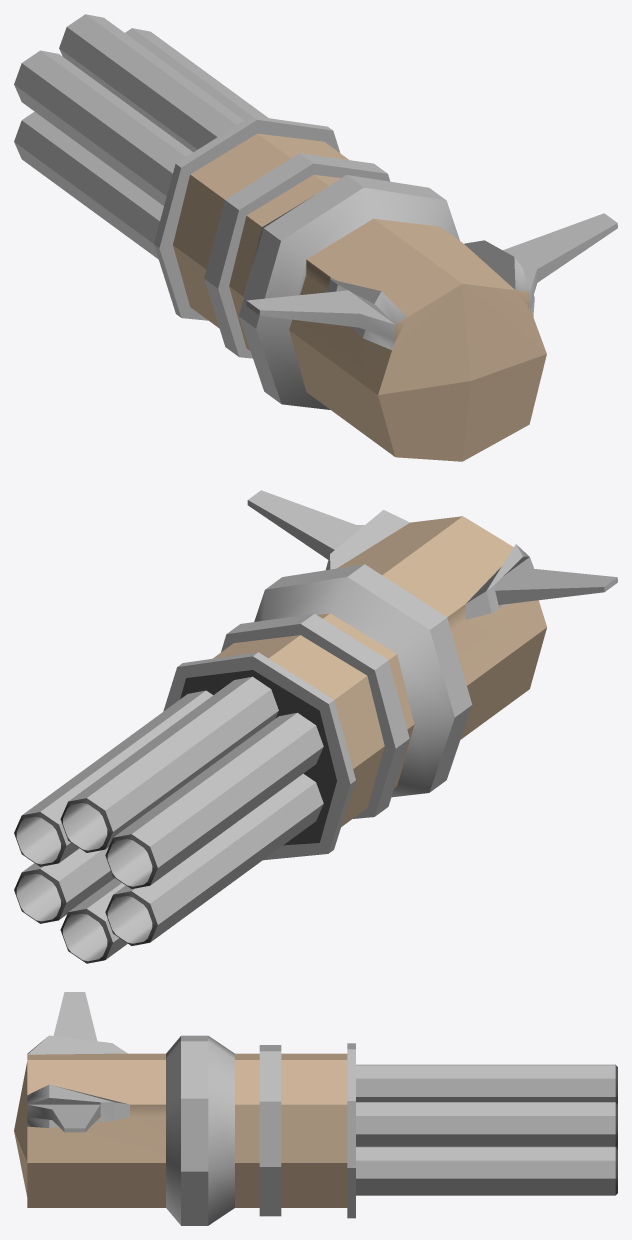
File: Gatling Gun.fbx
The picture shows the model from 3 angles, top to bottom: view 1: azimuth 30°, elevation 25°; view 2: azimuth 150°, elevation 25°; view 3: azimuth 270°, elevation 25°; orthographic projection. The views are drawn at different scales.
Visible parts, largest first — view 1: polySurface8, polySurface11; view 2: polySurface8, polySurface11; view 3: polySurface8, polySurface11.
Part boxes in pixels (bbox=[...]): polySurface8: bbox=[154, 116, 617, 461]; polySurface11: bbox=[14, 14, 267, 259]; polySurface8: bbox=[163, 490, 617, 860]; polySurface11: bbox=[14, 676, 323, 963]; polySurface8: bbox=[14, 992, 355, 1225]; polySurface11: bbox=[356, 1064, 617, 1195].
Size of the model in its own units: 7.97 by 4.81 by 14.93.
